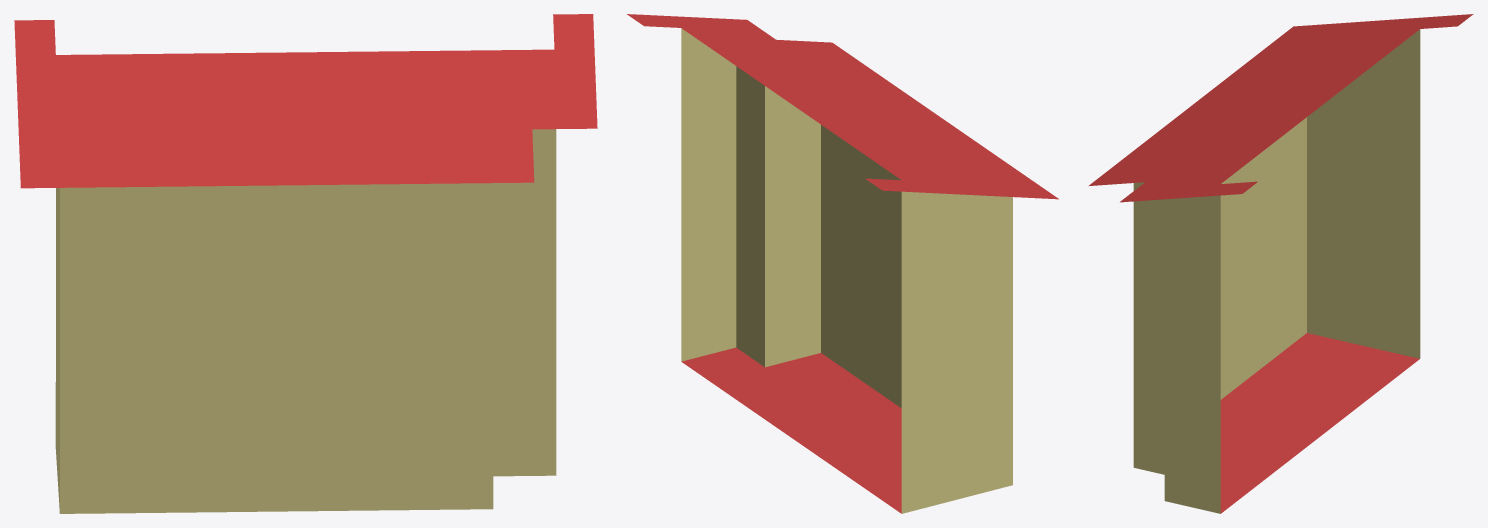
3 views of the same model, side by side, from view 1: azimuth 30°, elevation 25°; view 2: azimuth 150°, elevation 25°; view 3: azimuth 270°, elevation 25° (orthographic). The views are drawn at different scales.
Bounding box in the file's own units: 7.8 × 5.74 × 5.6.
